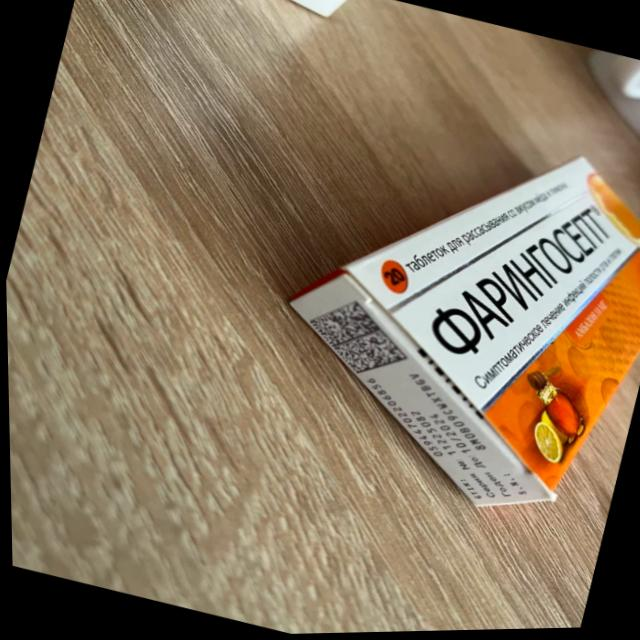datamatrix: (296, 291, 420, 392)
